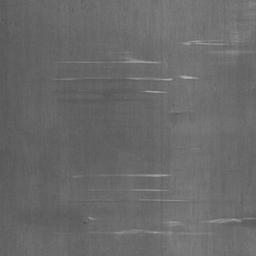Waist folding: (52, 57, 199, 103), (68, 172, 229, 205), (55, 215, 256, 237), (160, 38, 256, 56), (224, 0, 256, 24), (169, 111, 193, 116)
